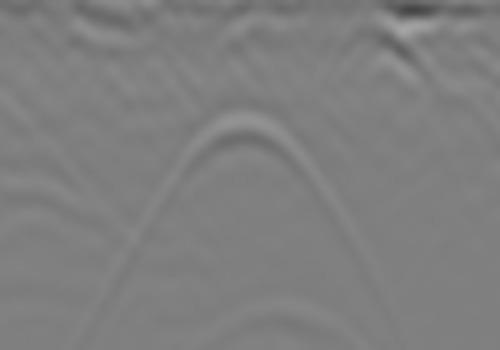hyperbola: (149, 104, 343, 230)
